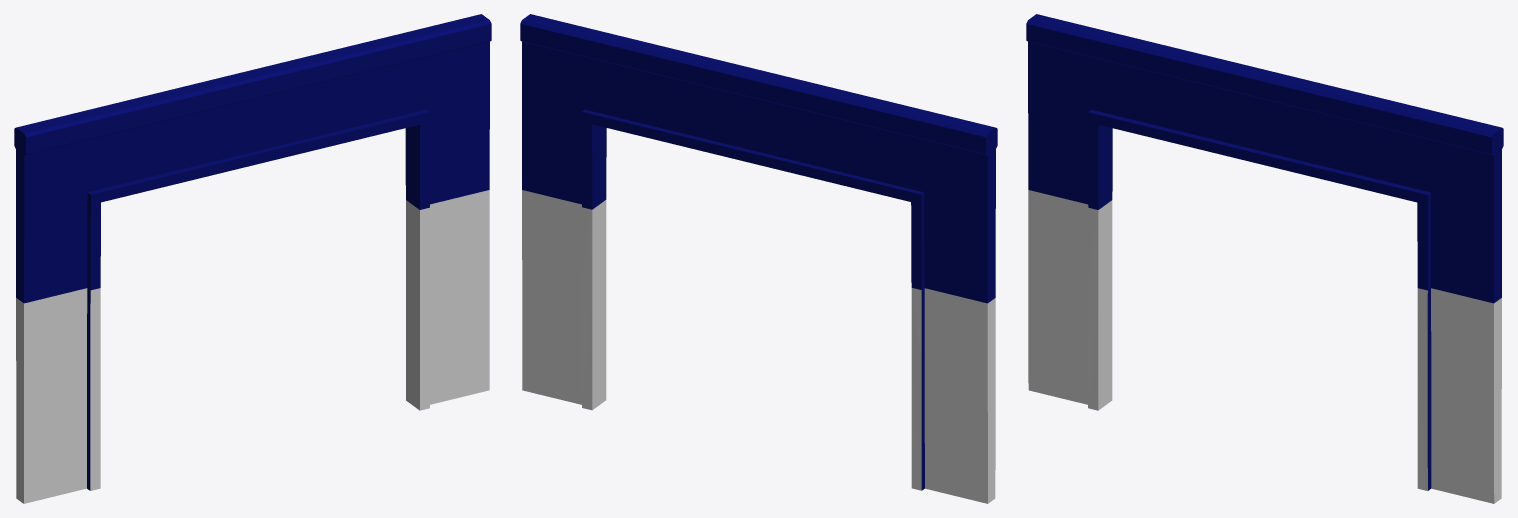
Rendered from wall_27.fbx.
3 renders of one model, left to right at view 1: azimuth 30°, elevation 25°; view 2: azimuth 150°, elevation 25°; view 3: azimuth 330°, elevation 25°, orthographic.
Visible parts, largest first — view 1: WALL_4.011; view 2: WALL_4.011; view 3: WALL_4.011.
Part boxes in pixels (x1=…): WALL_4.011: x1=14, y1=14, x2=491, y2=503; WALL_4.011: x1=520, y1=14, x2=997, y2=503; WALL_4.011: x1=1026, y1=14, x2=1503, y2=503.
Size of the model in its own units: 6.35 by 4.83 by 0.3453.
